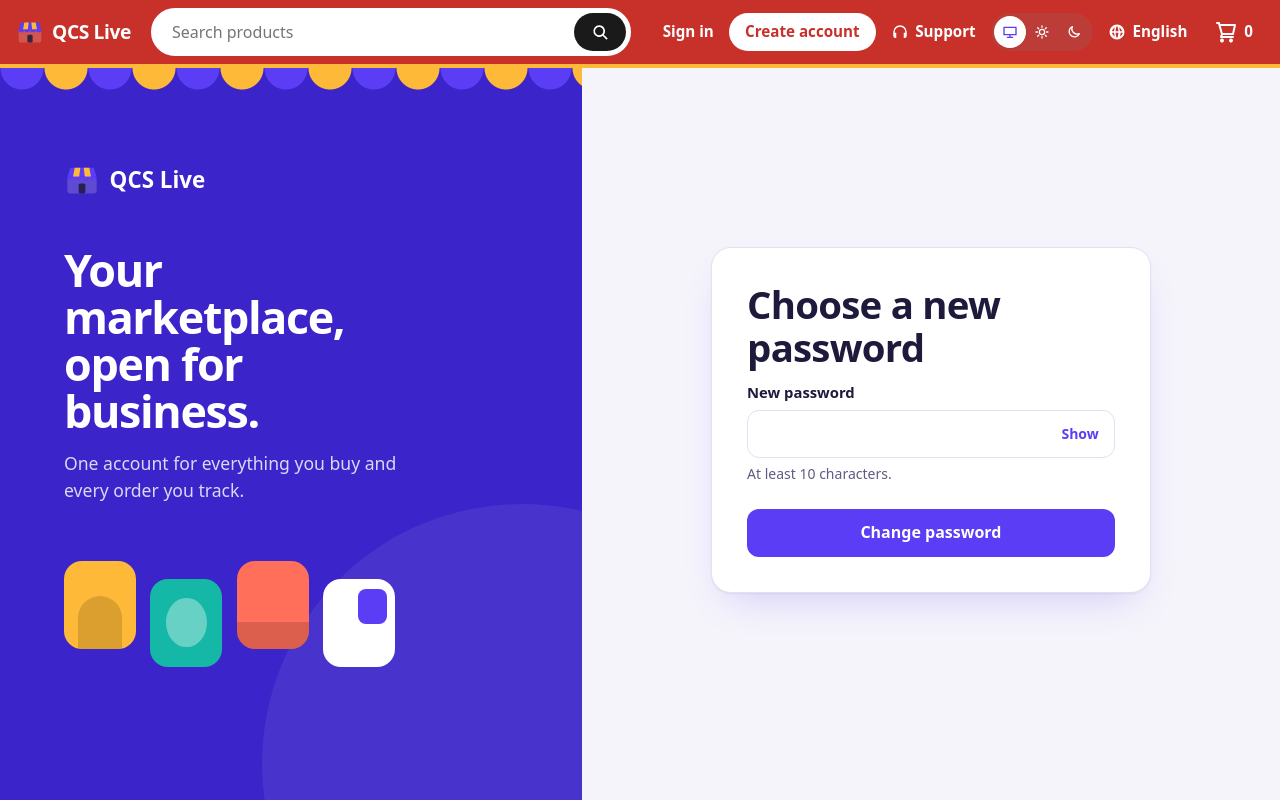
Test: password reset › submits the token and new password
Step 1. Type "another-long-passphrase-9" into the password field labelled "New password" → {"x": 931, "y": 434}, box [747, 410, 1115, 458]
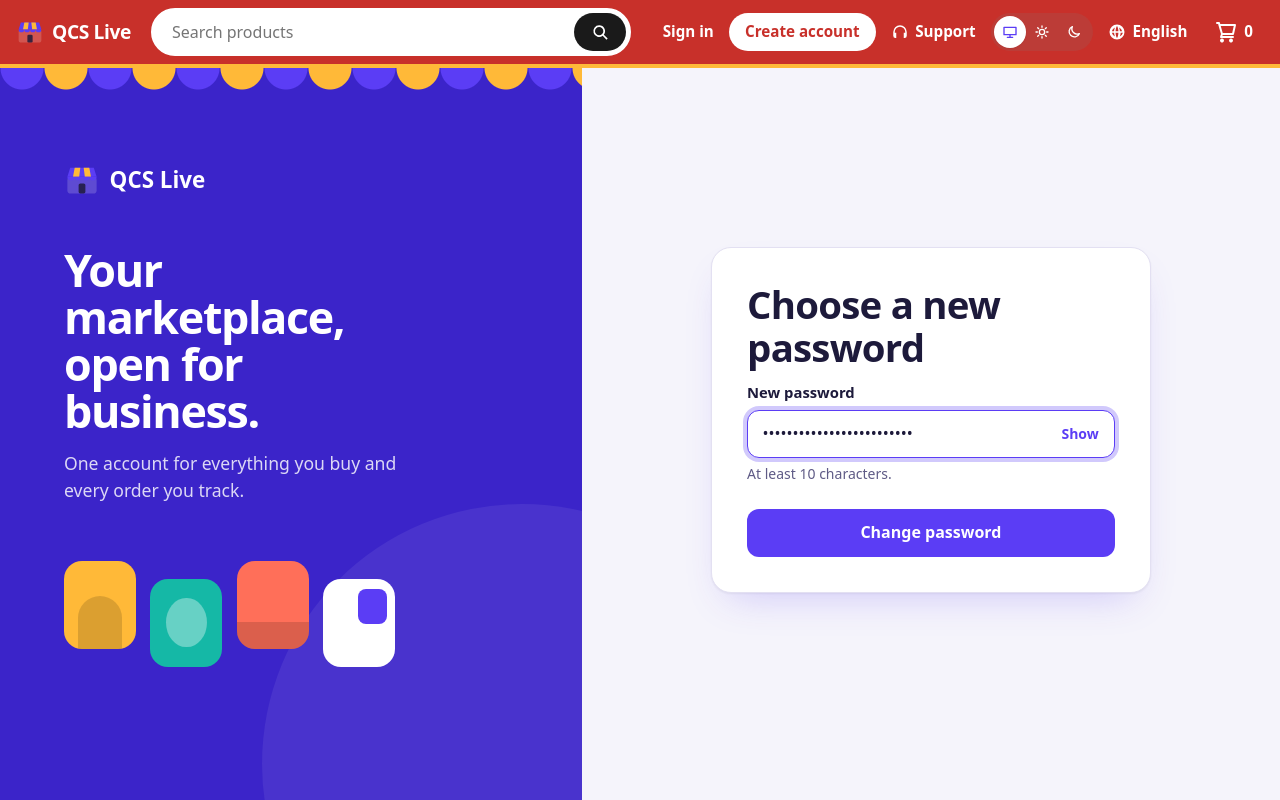
Step 2. Click the button "Change password" → {"x": 931, "y": 533}, box [747, 509, 1115, 557]
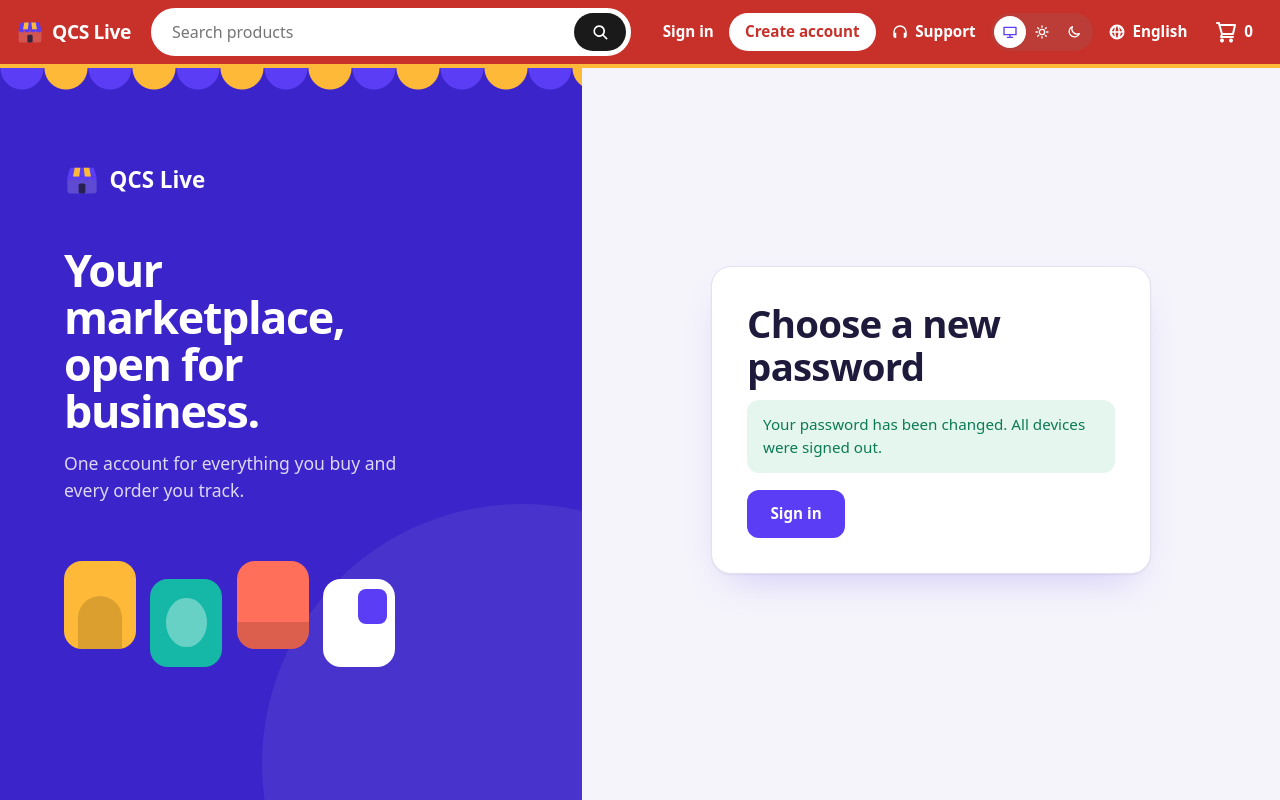
Result: the text "Your password has been changed. All devices were signed out." is shown at [747, 400, 1115, 472]
